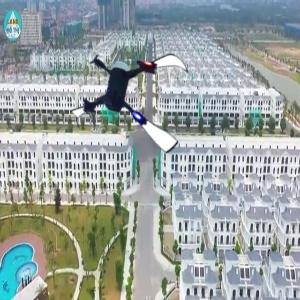drone: (73, 32, 202, 161)
